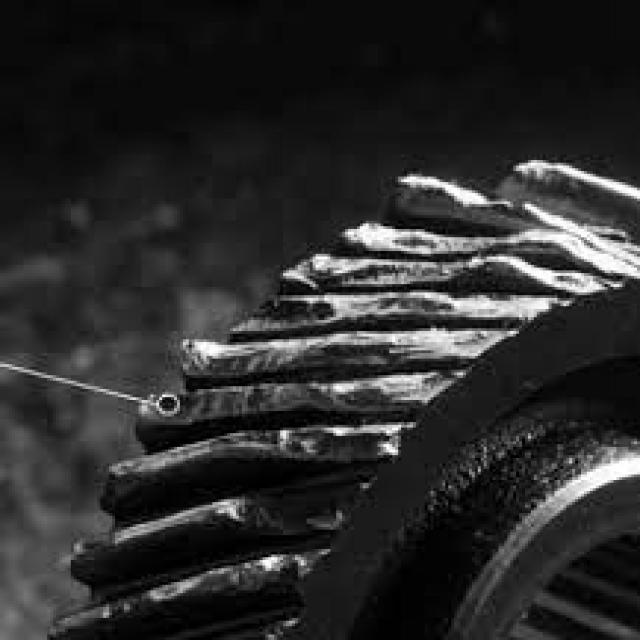Fault-Exist: (163, 152, 640, 600)
